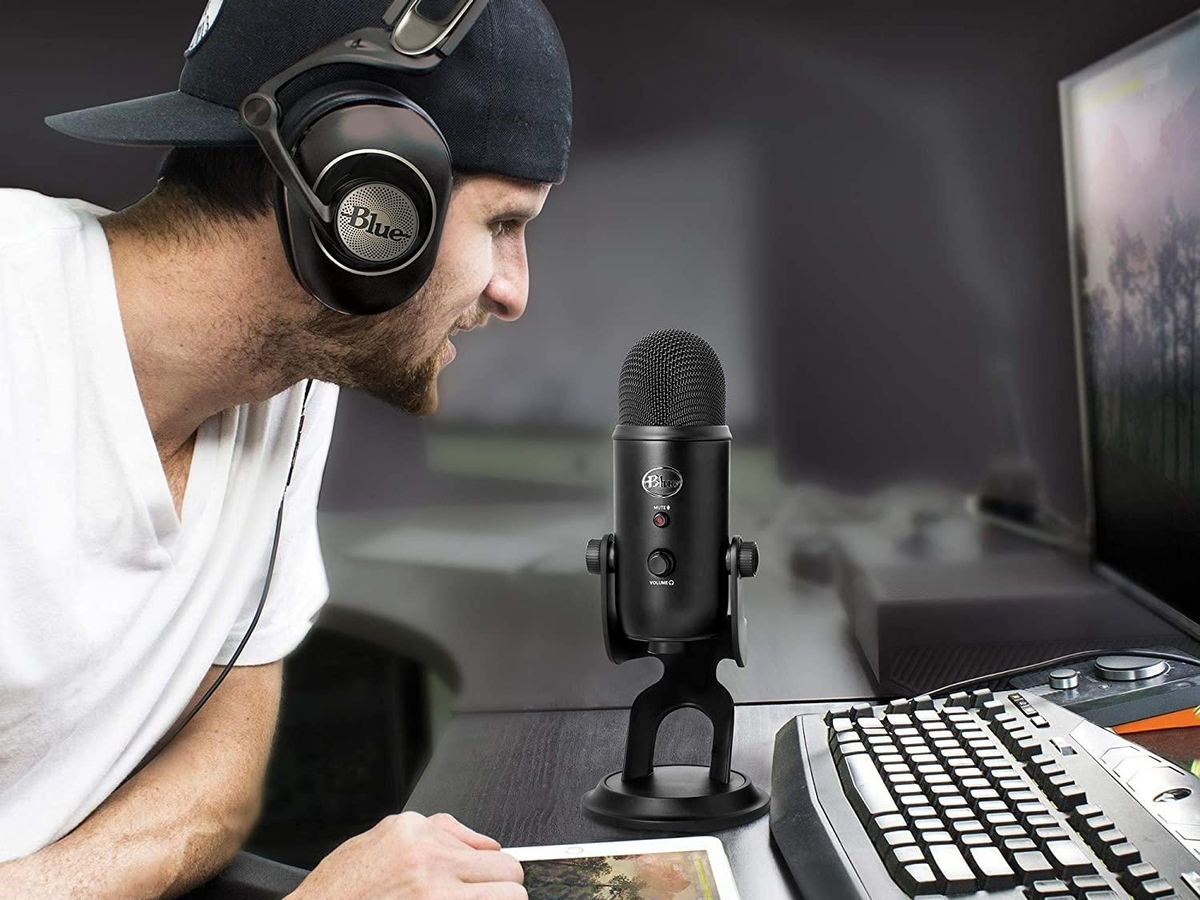microphone: (576, 324, 780, 843)
